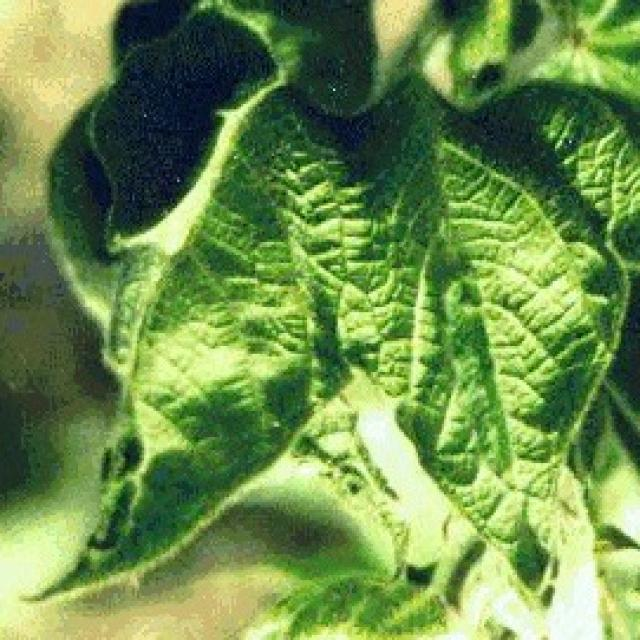Leaf Curl Virus: (210, 104, 584, 438)
